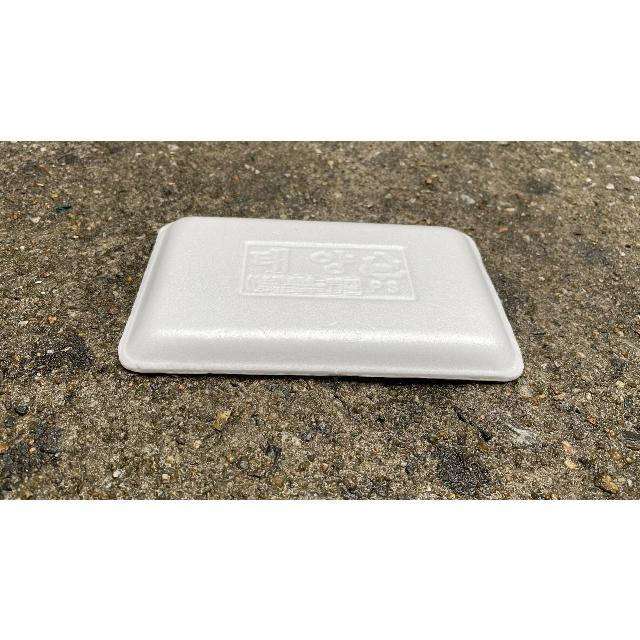Recipiente plastico: (119, 218, 524, 381)
